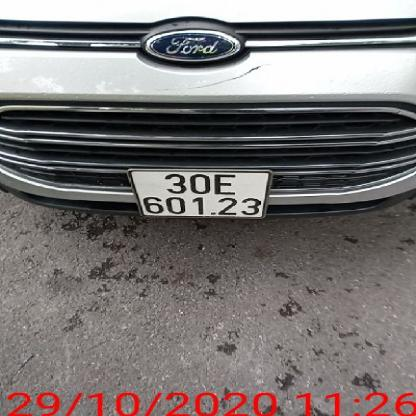biensoxe: (124, 161, 275, 224)
